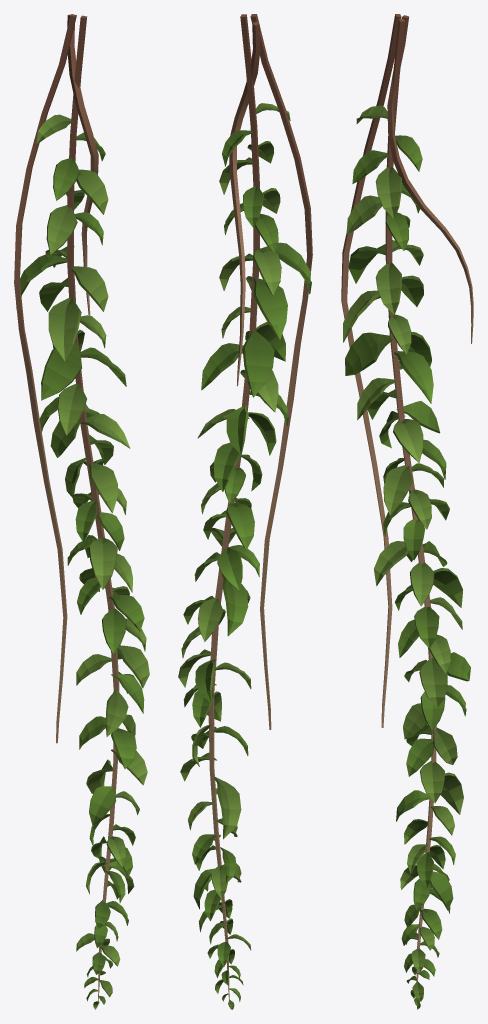
Rendered from Cavern_Vines-02.fbx.
3 renders of one model, left to right at view 1: azimuth 30°, elevation 25°; view 2: azimuth 210°, elevation 25°; view 3: azimuth 330°, elevation 25°, orthographic.
Parts seen in each view (by area): view 1: Cavern_Vines-02; view 2: Cavern_Vines-02; view 3: Cavern_Vines-02.
Boxes of the visible parts, x1,y1,x2,y2 form: Cavern_Vines-02: [14, 14, 149, 1009]; Cavern_Vines-02: [178, 14, 312, 1009]; Cavern_Vines-02: [341, 14, 473, 1009].
Size of the model in its own units: 104 by 805 by 85.18.
1 material, 1 textured.
